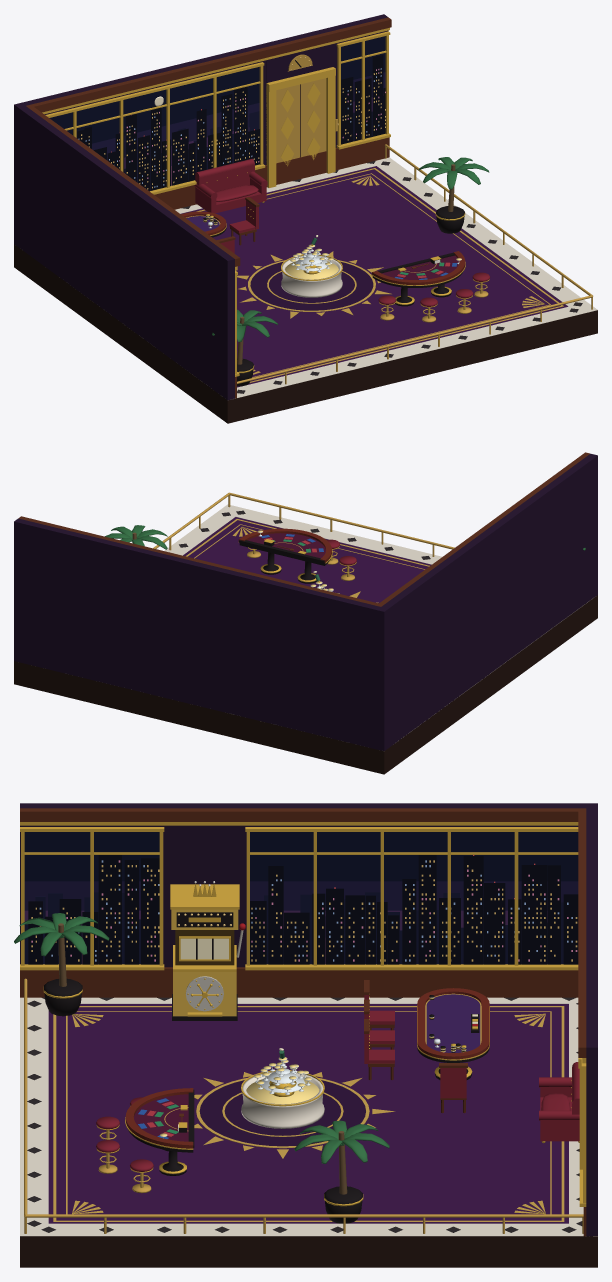
File: casino_vip.glb
The picture shows the model from 3 angles, top to bottom: view 1: azimuth 30°, elevation 25°; view 2: azimuth 150°, elevation 25°; view 3: azimuth 270°, elevation 25°; orthographic projection. The views are drawn at different scales.
Parts seen in each view (by area): view 1: Casino_VipStatic; view 2: Casino_VipStatic; view 3: Casino_VipStatic.
Boxes of the visible parts, bbox=[...] form: Casino_VipStatic: bbox=[14, 14, 597, 423]; Casino_VipStatic: bbox=[14, 452, 597, 774]; Casino_VipStatic: bbox=[14, 803, 597, 1267].
Bounding box in the file's own units: 10.14 × 4.2 × 10.1.
